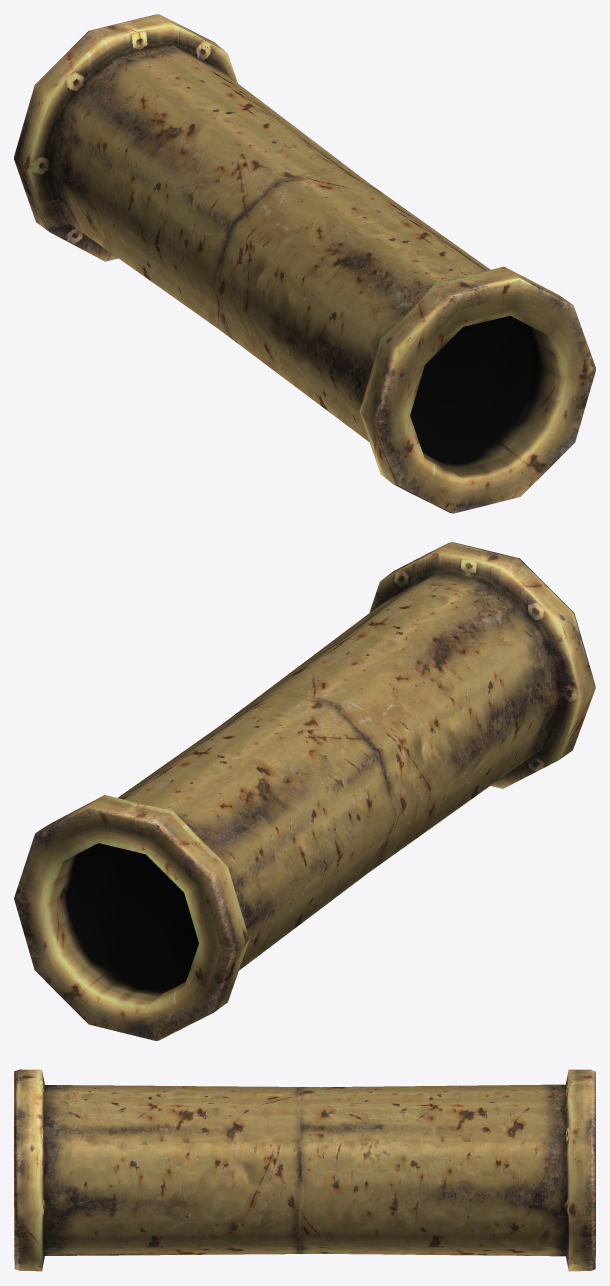
The model's file is Pipe.fbx.
3 renders of one model, top to bottom at view 1: azimuth 30°, elevation 25°; view 2: azimuth 150°, elevation 25°; view 3: azimuth 270°, elevation 25°, orthographic. The views are drawn at different scales.
Visible parts, largest first — view 1: None; view 2: None; view 3: None.
Boxes of the visible parts, x1,y1,x2,y2 form: None: (14,14,595,513); None: (14,542,595,1040); None: (14,1069,595,1271).
Bounding box in the file's own units: 143 × 135 × 405.
